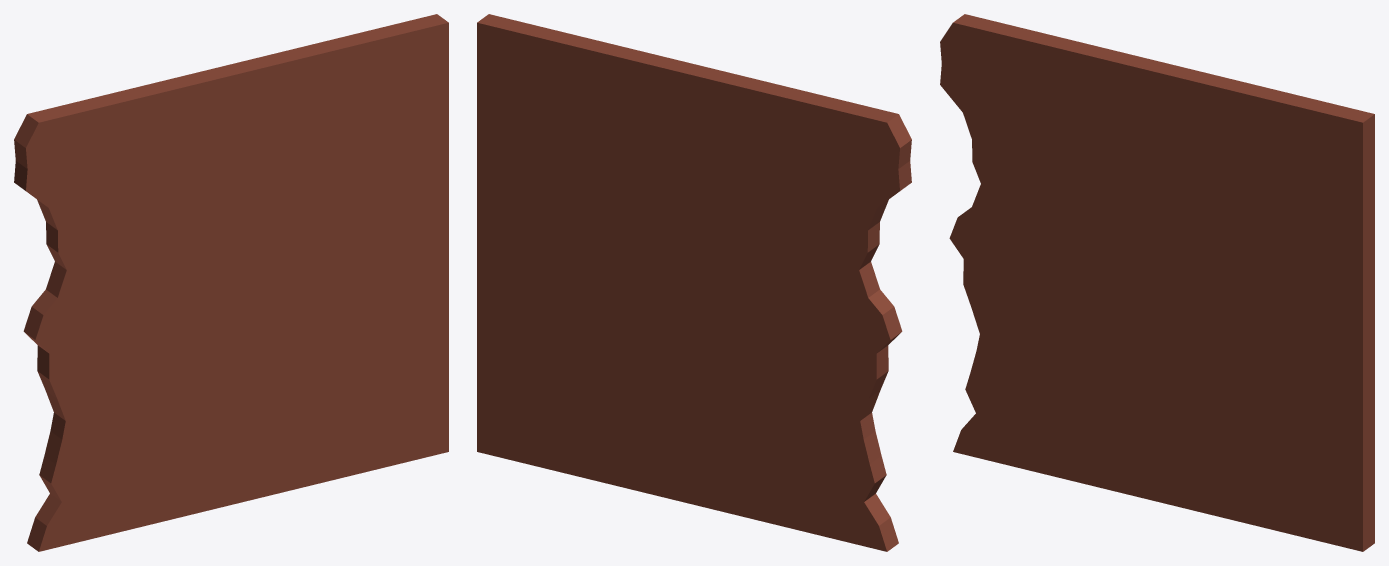
Rendered from tile08.001.glb.
3 views of the same model, side by side, from view 1: azimuth 30°, elevation 25°; view 2: azimuth 150°, elevation 25°; view 3: azimuth 330°, elevation 25° (orthographic).
Visible parts, largest first — view 1: 08.001; view 2: 08.001; view 3: 08.001.
Boxes of the visible parts, x1,y1,x2,y2 form: 08.001: (14, 14, 448, 551); 08.001: (477, 14, 911, 551); 08.001: (940, 14, 1374, 551).
Size of the model in its own units: 2.06 by 2 by 0.1.
Materials: 1 (1 with a texture image).
